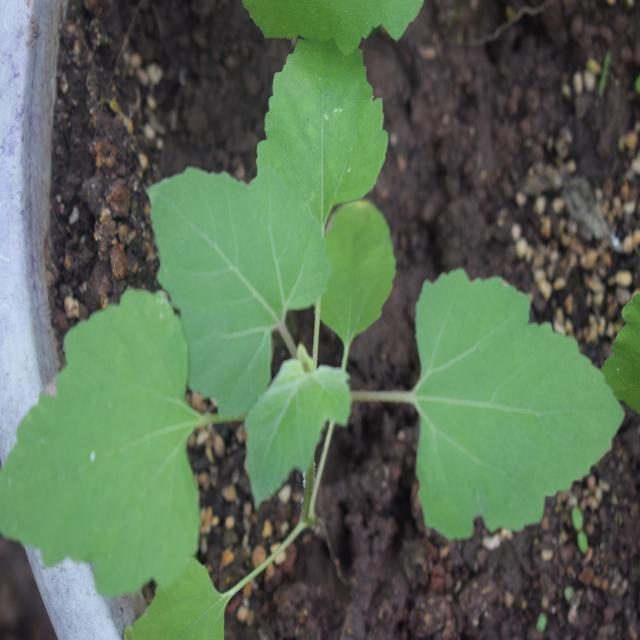cocklebur: (20, 42, 627, 584)
